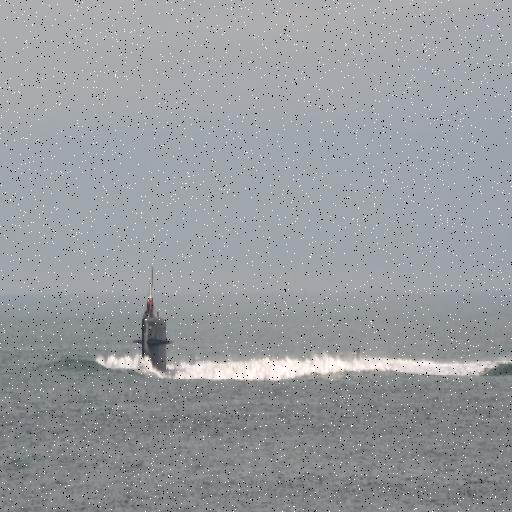submarine: (123, 268, 177, 373)
